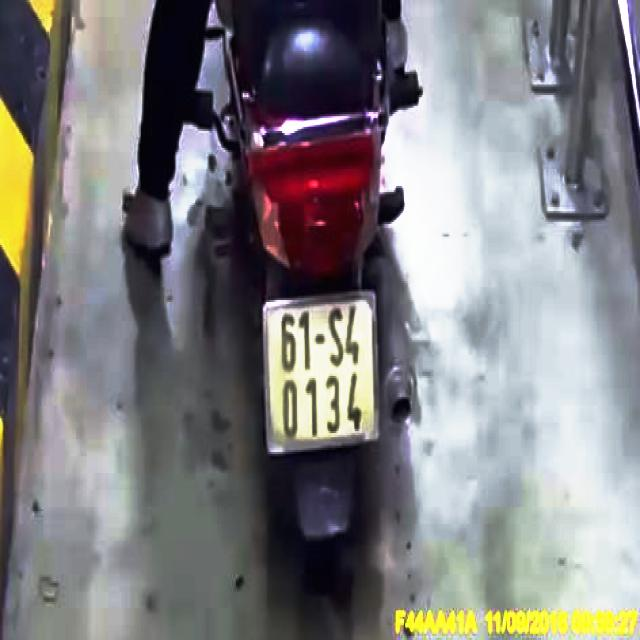license_plate: (264, 296, 383, 456)
